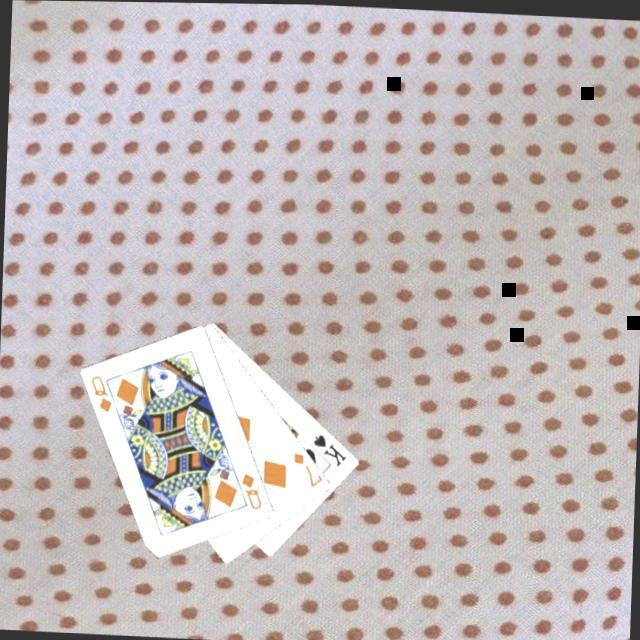7D: (291, 447, 326, 488)
KS: (310, 429, 351, 467)
QD: (88, 371, 117, 414), (238, 467, 266, 510)
